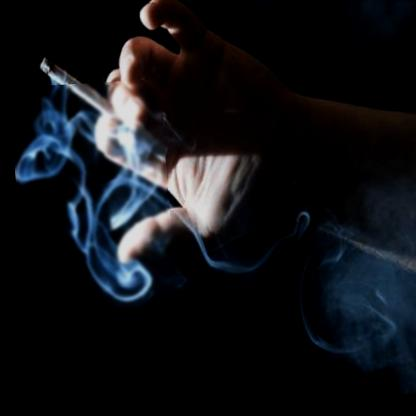smoke: (7, 81, 173, 328)
